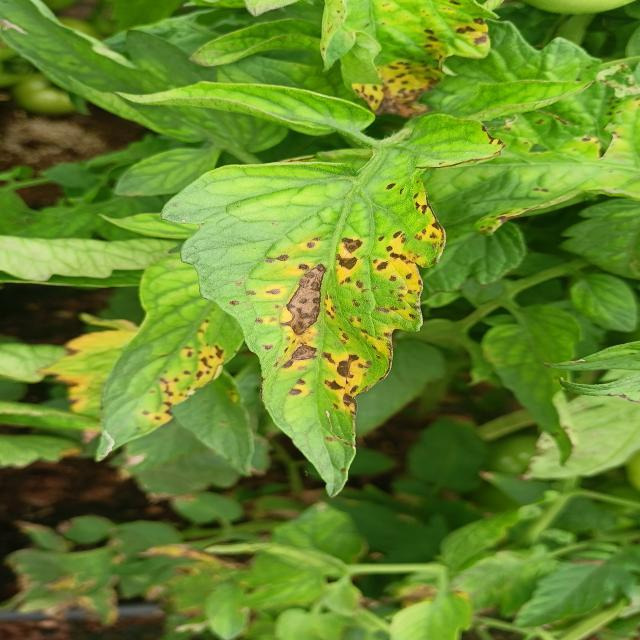Tomato mosaic virus leaf: (173, 172, 454, 506), (304, 0, 500, 121)
